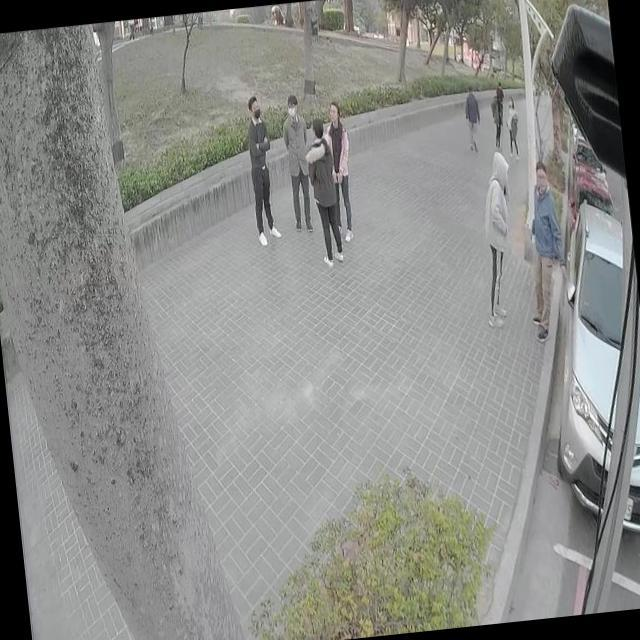person: (519, 163, 573, 341), (472, 147, 524, 326), (297, 108, 347, 272), (242, 94, 280, 244), (324, 99, 358, 248), (279, 98, 314, 228), (458, 79, 486, 157), (487, 84, 508, 149), (504, 94, 520, 158)
